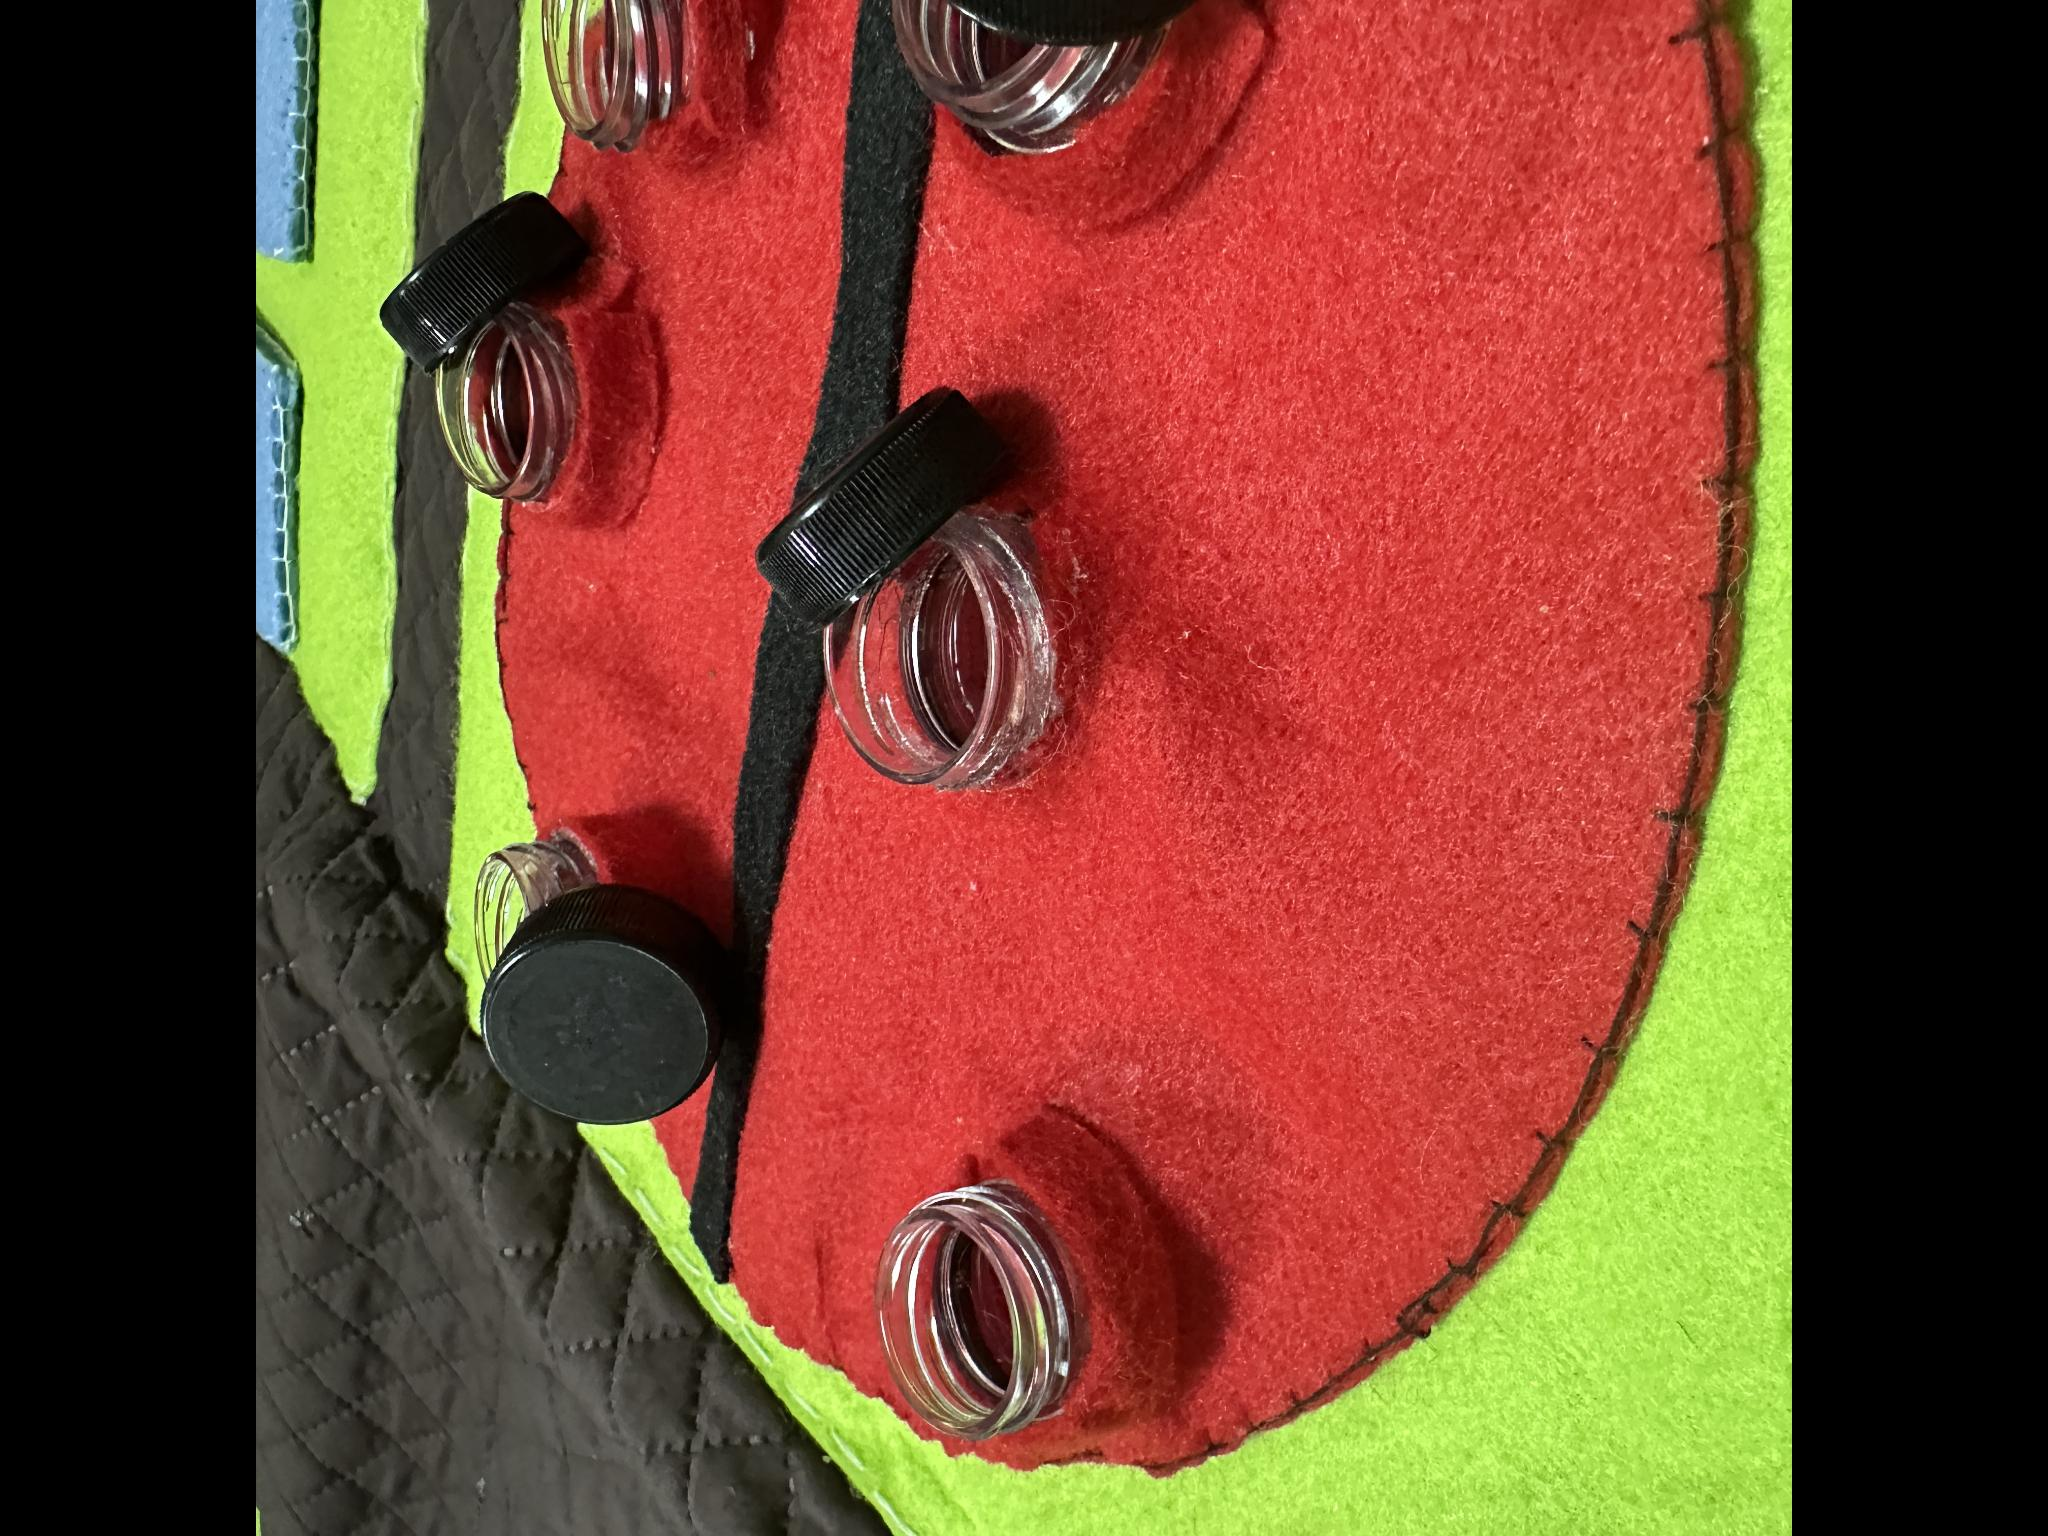cap_ng: (750, 357, 1108, 810), (822, 0, 1413, 210), (440, 783, 755, 1141), (374, 177, 672, 537)
